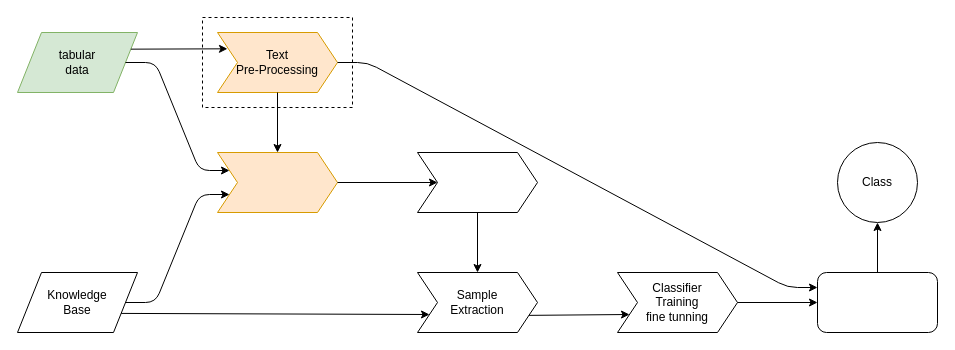
This 955x350 diagram has some shape labels left out. Each missing label, with the centre of its shape:
Candidate Type Extraction: point (477, 182)
classifier: point (877, 302)
Entity Identification lookup: point (277, 182)
